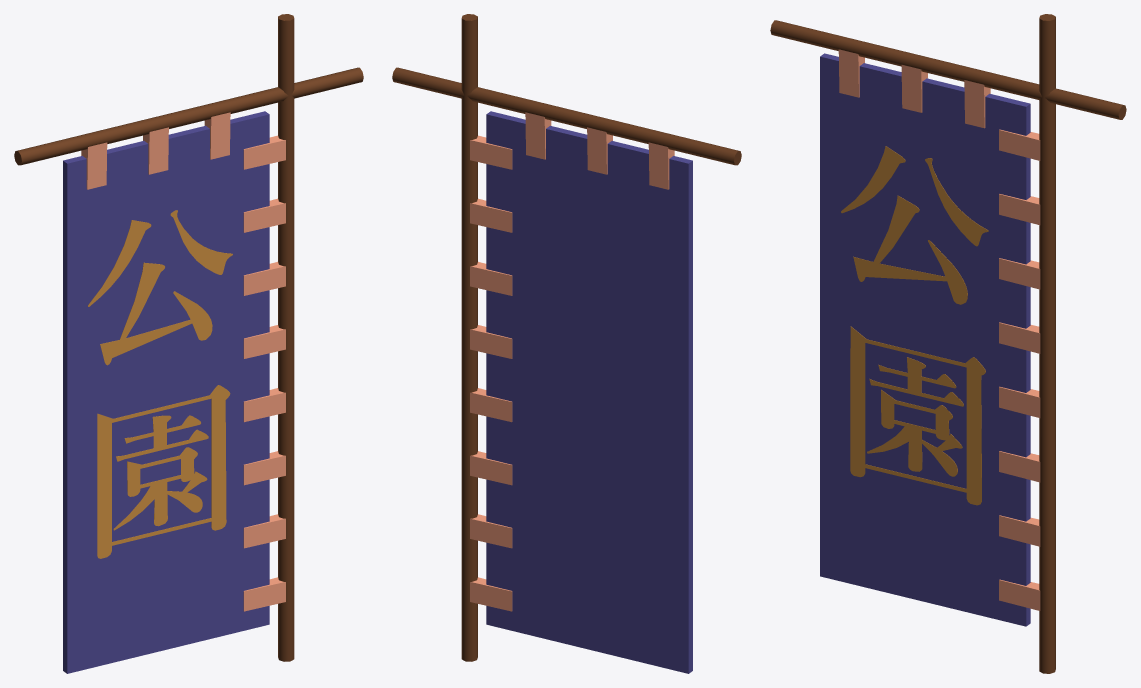
File: Sign_1.fbx
3 renders of one model, left to right at view 1: azimuth 30°, elevation 25°; view 2: azimuth 150°, elevation 25°; view 3: azimuth 330°, elevation 25°, orthographic.
Parts seen in each view (by area): view 1: Sign_1; view 2: Sign_1; view 3: Sign_1.
Part boxes in pixels (x1,y1,x2,y2): Sign_1: [14, 14, 363, 673]; Sign_1: [392, 14, 741, 673]; Sign_1: [770, 14, 1126, 673].
Size of the model in its own units: 130 by 233 by 5.56.
